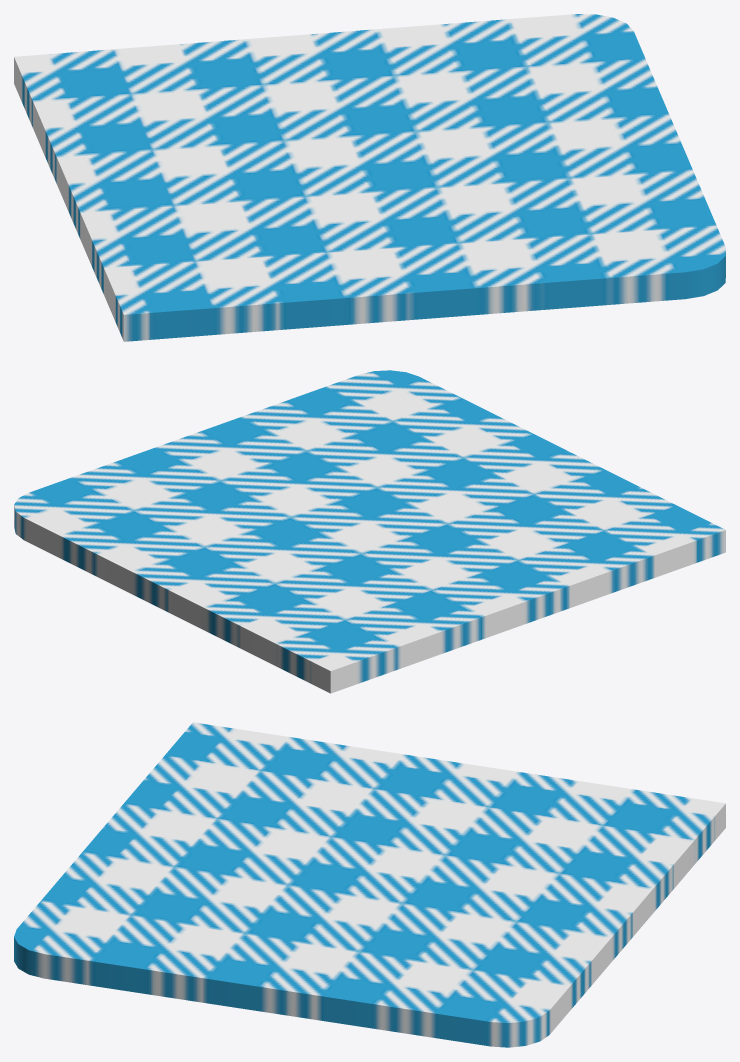
The model's file is props_check texture.fbx.
3 renders of one model, top to bottom at view 1: azimuth 30°, elevation 25°; view 2: azimuth 150°, elevation 25°; view 3: azimuth 270°, elevation 25°, orthographic. The views are drawn at different scales.
Visible parts, largest first — view 1: Cube.008; view 2: Cube.008; view 3: Cube.008.
Part boxes in pixels (x1,y1,x2,y2): Cube.008: [14, 14, 725, 341]; Cube.008: [14, 370, 725, 693]; Cube.008: [14, 722, 725, 1047].
Size of the model in its own units: 1.07 by 0.0408 by 1.07.
